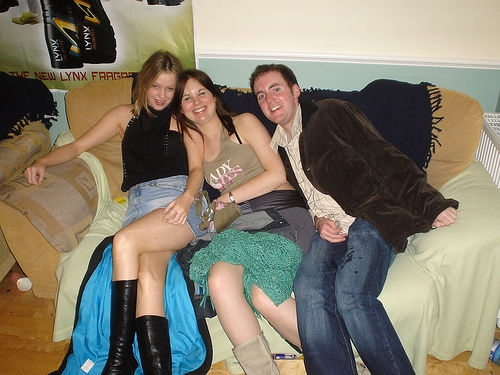head: (251, 64, 302, 127), (172, 69, 223, 132), (133, 47, 177, 117)
person: (237, 64, 459, 361), (21, 48, 183, 374), (172, 65, 298, 375)
